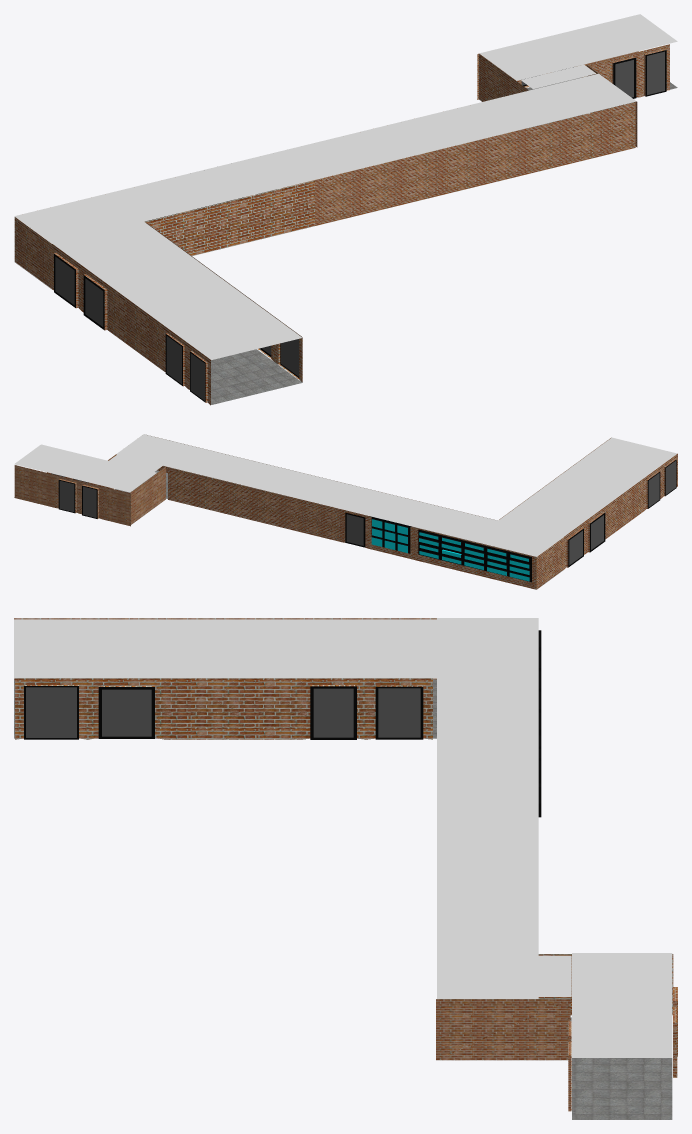
Rendered from pasillo4.fbx.
3 renders of one model, top to bottom at view 1: azimuth 30°, elevation 25°; view 2: azimuth 150°, elevation 25°; view 3: azimuth 270°, elevation 25°, orthographic. The views are drawn at different scales.
Visible parts, largest first — view 1: Plane.001, Plane.007, Plane.004, Plane.006, Plane.003, Plane.015, Piso1, Plane.014, Plane.011, Plane.030, Plane.025, Plane.026 (+6 smaller); view 2: Plane.001, Plane.004, Plane.010, Plane.003, Plane.015, Plane.012, Plane.032, Plane.009, Plane.008, Plane.011, Plane.034, Plane.027 (+7 smaller); view 3: Plane.001, Plane.004, Plane.005, Plane.015, Plane.013, Piso4, Plane.019, Plane.020, Plane.022, Plane.021, Plane.018, Plane.003.
Boxes of the visible parts, bbox=[...] form: Plane.001: bbox=[14, 73, 636, 243]; Plane.007: bbox=[315, 102, 635, 225]; Plane.004: bbox=[53, 222, 302, 359]; Plane.006: bbox=[144, 180, 314, 255]; Plane.003: bbox=[14, 217, 210, 405]; Plane.015: bbox=[479, 14, 677, 80]; Piso1: bbox=[211, 349, 302, 404]; Plane.014: bbox=[582, 44, 669, 97]; Plane.011: bbox=[479, 54, 528, 101]; Plane.030: bbox=[645, 50, 666, 96]; Plane.025: bbox=[83, 275, 104, 330]; Plane.026: bbox=[54, 254, 75, 307]; Plane.001: bbox=[116, 434, 563, 556]; Plane.004: bbox=[498, 437, 677, 536]; Plane.010: bbox=[168, 467, 290, 529]; Plane.003: bbox=[536, 453, 677, 589]; Plane.015: bbox=[14, 444, 156, 492]; Plane.012: bbox=[14, 465, 130, 526]; Plane.032: bbox=[418, 529, 531, 582]; Plane.009: bbox=[290, 497, 413, 559]; Plane.008: bbox=[413, 527, 536, 589]; Plane.011: bbox=[130, 467, 165, 524]; Plane.034: bbox=[370, 516, 411, 553]; Plane.027: bbox=[345, 512, 365, 547]; Plane.001: bbox=[437, 618, 538, 998]; Plane.004: bbox=[14, 619, 436, 678]; Plane.005: bbox=[15, 678, 432, 739]; Plane.015: bbox=[572, 953, 672, 1057]; Plane.013: bbox=[436, 999, 570, 1060]; Piso4: bbox=[572, 1058, 672, 1119]; Plane.019: bbox=[24, 686, 78, 739]; Plane.020: bbox=[98, 687, 154, 738]; Plane.022: bbox=[375, 686, 423, 739]; Plane.021: bbox=[310, 686, 356, 739]; Plane.018: bbox=[538, 955, 571, 996]; Plane.003: bbox=[14, 618, 436, 679].
Size of the model in its own units: 21999 by 1439 by 13965.
Materials: 5 (2 with a texture image).
